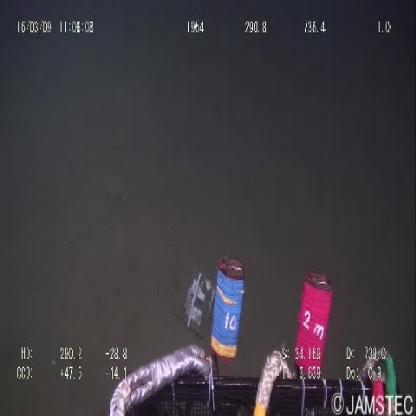Rov: (103, 249, 414, 416)
Rác: (178, 267, 218, 331)
